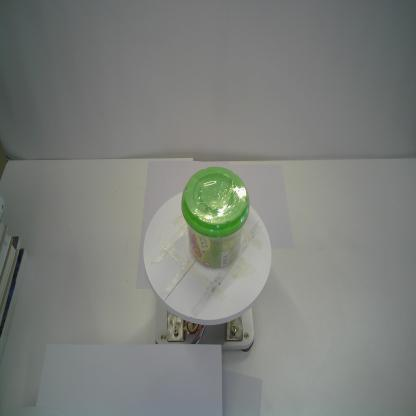Instant Drink: (180, 166, 250, 270)
